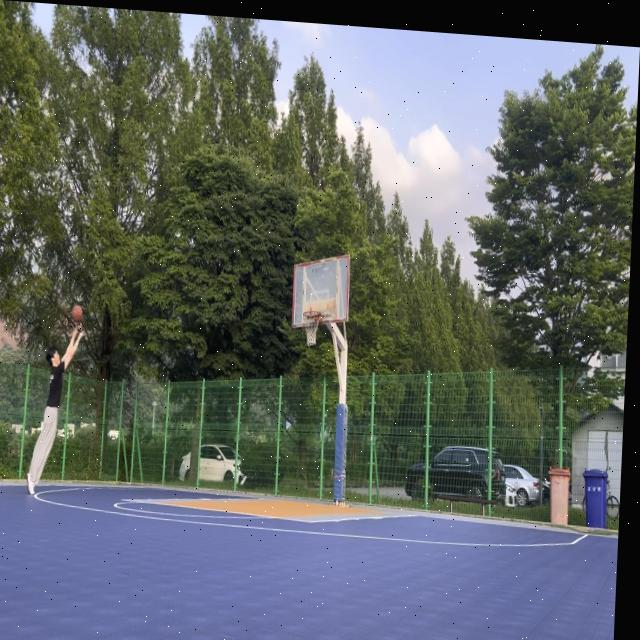basketball: (71, 305, 83, 325)
hoop: (301, 310, 322, 348)
